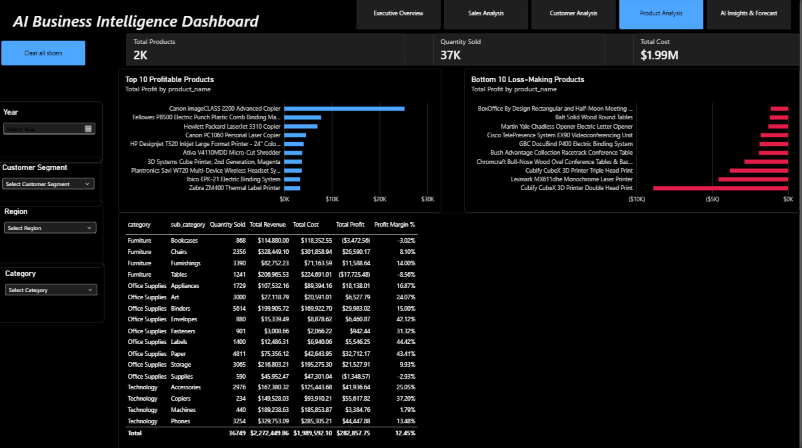

The page's visual inventory and layout, read from the dashboard file:
{"tool":"powerbi","page":{"name":"Product Analysis","canvas":[1920,1080],"ordinal":3},"visuals":[{"type":"tableEx","fields":{"Values":["superstore_sales.category","superstore_sales.sub_category","key Measures (2).Quantity Sold","key Measures (2).Total Revenue","key Measures (2).Total Cost","key Measures (2).Total Profit","key Measures (2).Profit Margin %"]},"box":[293.5,515.4,1627.2,565.5],"z":0},{"type":"textbox","box":[2.4,31,665.7,74],"z":1000},{"type":"group","id":"g1","title":"Group 3","box":[312.6,88.3,1608.1,76.3],"z":2000},{"type":"group","id":"g2","title":"Group 4","box":[293.5,171.8,1627.2,343.6],"z":3000},{"type":"listSlicer","fields":{"Values":["DateTable.Year"]},"box":[3.3,250.5,252.9,145.5],"z":3000,"group":"g3"},{"type":"pageNavigator","box":[861.3,0,1040.3,78.7],"z":4000},{"type":"cardVisual","fields":{"Data":["key Measures (2).Total Products"]},"box":[312.6,88.3,665.7,76.3],"z":4000,"group":"g1"},{"type":"cardVisual","fields":{"Data":["key Measures (2).Quantity Sold"]},"box":[1045.1,88.3,410.4,75.1],"z":5000,"group":"g1"},{"type":"actionButton","box":[14.3,105,200.4,59.6],"z":5000},{"type":"listSlicer","fields":{"Values":["ai_customer_segments.ai_segment"]},"box":[0,382.3,252.9,119.3],"z":5000,"group":"g3"},{"type":"cardVisual","fields":{"Data":["key Measures (2).Total Cost"]},"box":[1522.3,88.3,398.4,75.1],"z":6000,"group":"g1"},{"type":"group","id":"g3","title":"Group 1","box":[0,250.5,260.1,527.3],"z":6000},{"type":"clusteredBarChart","title":"Top 10 Profitable Products","fields":{"Category":["superstore_sales.product_name"],"Y":["key Measures (2).Total Profit"]},"box":[293.5,171.8,770.7,343.6],"z":7000,"group":"g2"},{"type":"clusteredBarChart","title":"Bottom 10 Loss-Making Products","fields":{"Category":["superstore_sales.product_name"],"Y":["key Measures (2).Total Profit"]},"box":[1119,171.8,801.7,343.6],"z":8000,"group":"g2"},{"type":"listSlicer","fields":{"Values":["superstore_sales.region"]},"box":[5.7,487.8,252.9,159.9],"z":8000,"group":"g3"},{"type":"listSlicer","fields":{"Values":["superstore_sales.category"]},"box":[7,633.9,252.9,143.2],"z":10000,"group":"g3"}]}

Visuals, with their boxes in screenshot pixels (x1, y1, x2, y2), scaled from the page's 1920x1080 canvas onto the 802x448 screenshot:
tableEx - superstore_sales.category x superstore_sales.sub_category: bbox=[123, 214, 801, 447]
textbox: bbox=[1, 13, 279, 44]
"Group 3" group: bbox=[131, 37, 801, 68]
"Group 4" group: bbox=[123, 71, 801, 214]
listSlicer - DateTable.Year: bbox=[1, 104, 107, 164]
pageNavigator: bbox=[360, 0, 794, 33]
cardVisual - key Measures (2).Total Products: bbox=[131, 37, 409, 68]
cardVisual - key Measures (2).Quantity Sold: bbox=[437, 37, 608, 68]
actionButton: bbox=[6, 44, 90, 68]
listSlicer - ai_customer_segments.ai_segment: bbox=[0, 159, 106, 208]
cardVisual - key Measures (2).Total Cost: bbox=[636, 37, 801, 68]
"Group 1" group: bbox=[0, 104, 109, 323]
"Top 10 Profitable Products" clusteredBarChart: bbox=[123, 71, 445, 214]
"Bottom 10 Loss-Making Products" clusteredBarChart: bbox=[467, 71, 801, 214]
listSlicer - superstore_sales.region: bbox=[2, 202, 108, 269]
listSlicer - superstore_sales.category: bbox=[3, 263, 109, 322]
